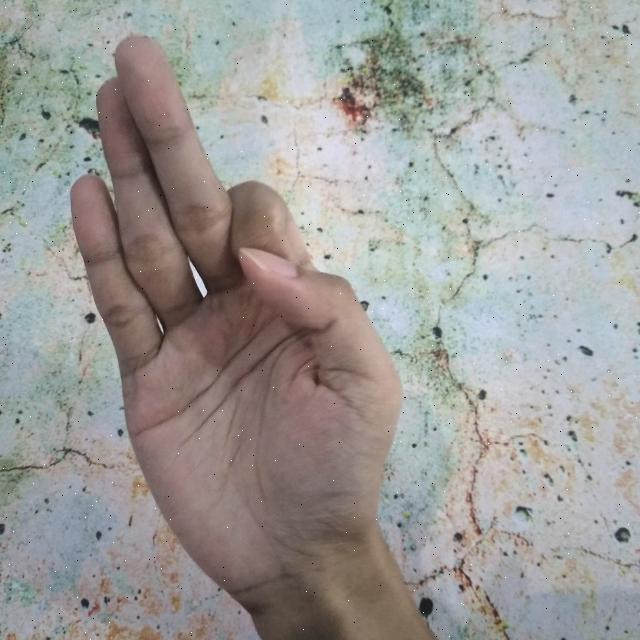F: (72, 29, 426, 640)
